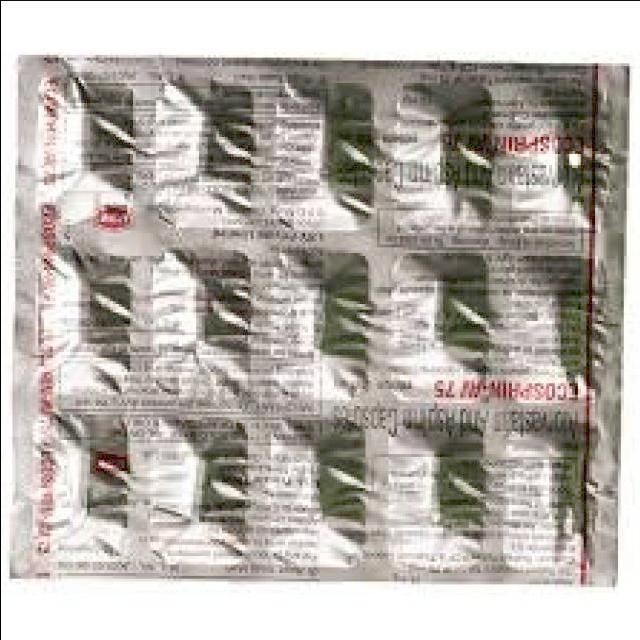authentic: (5, 44, 634, 593)
